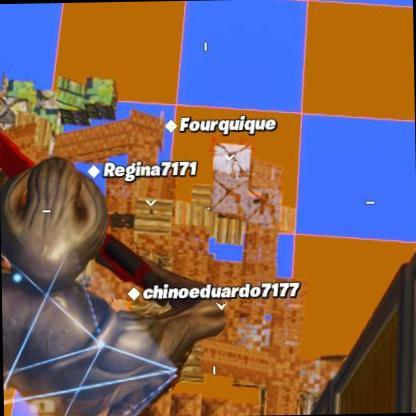person: (149, 204, 153, 214)
